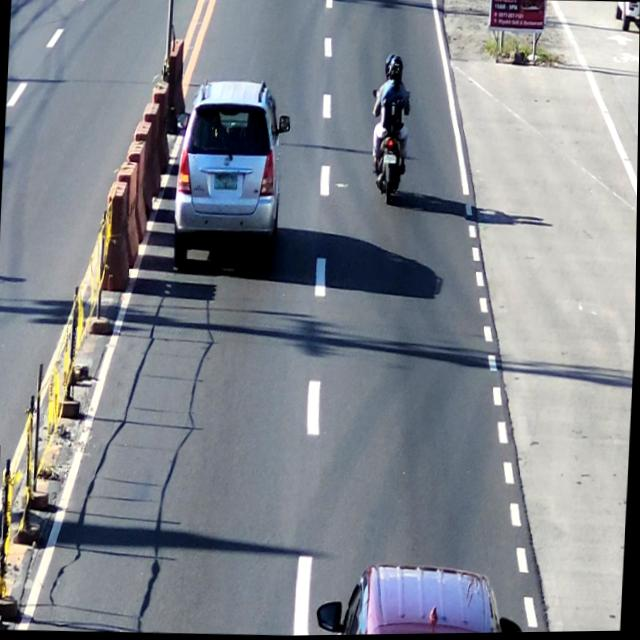Car: (171, 81, 289, 269), (316, 560, 524, 636)
License-Plate: (210, 170, 241, 196)
Motorcycle: (370, 48, 419, 213)
